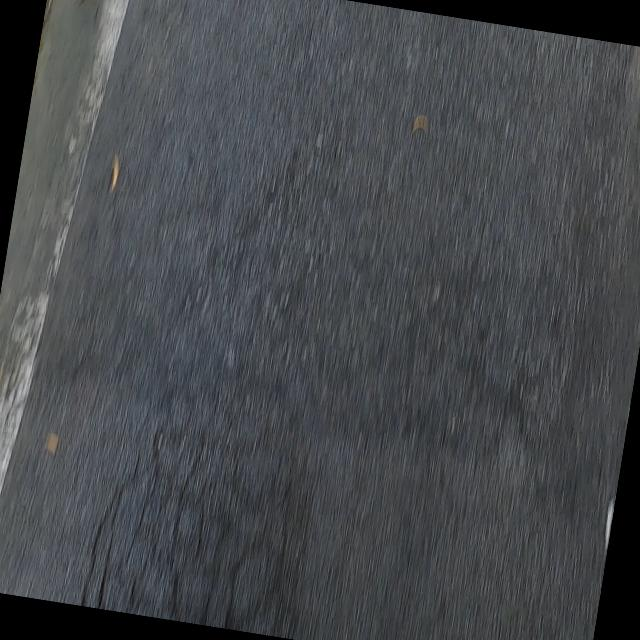Retak-Buaya: (76, 431, 299, 640)
